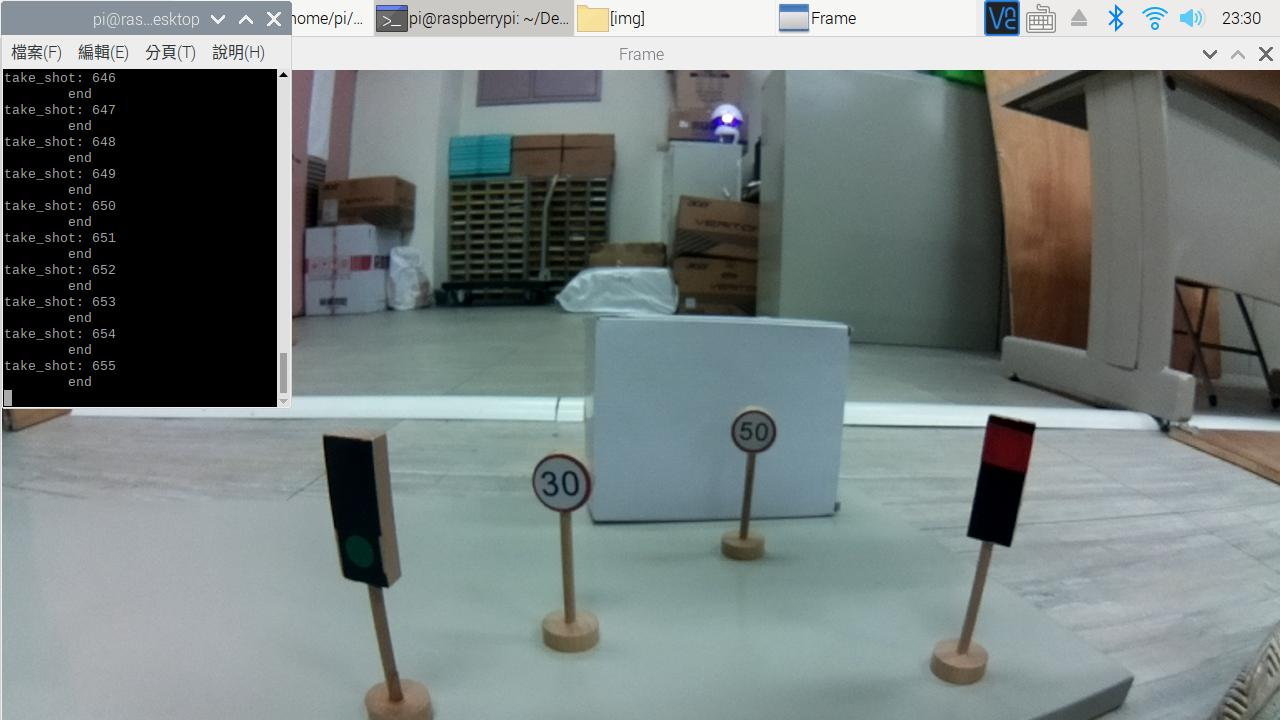Green: (308, 429, 411, 600)
Red: (965, 409, 1043, 553)
Speed30: (524, 444, 600, 517)
Speed50: (726, 399, 786, 460)
